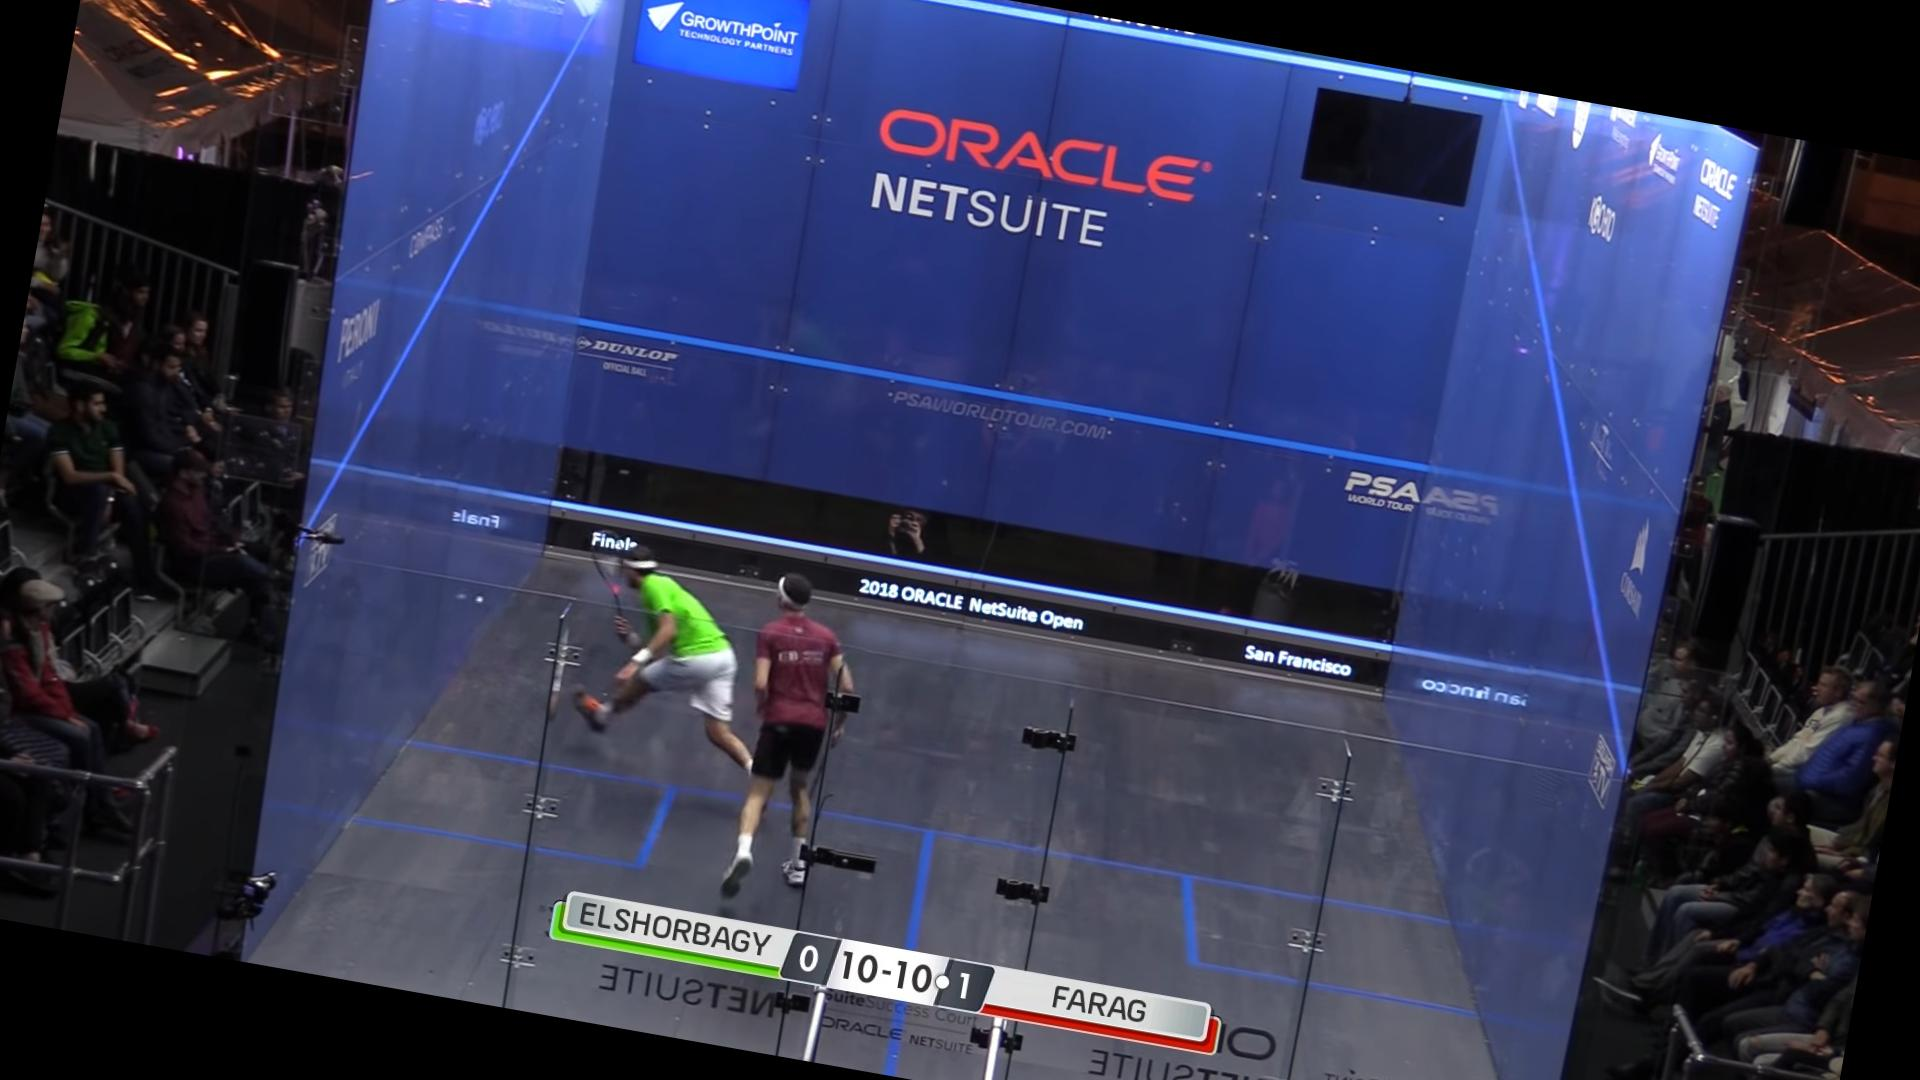Squash-Ball: (468, 589, 485, 612)
